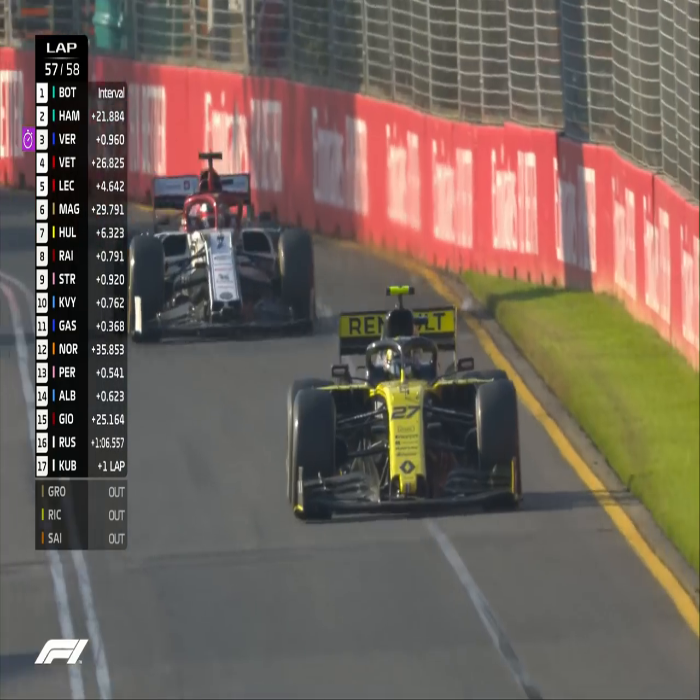f1_car: (288, 291, 537, 531), (133, 170, 334, 341)
